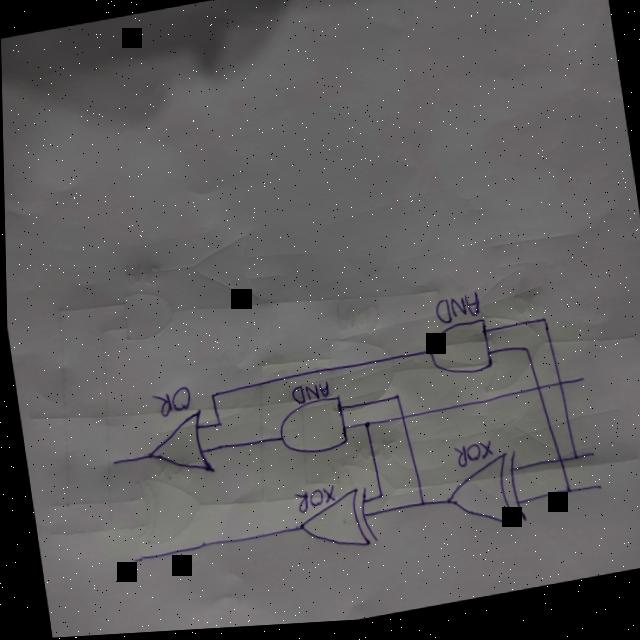crossover: (394, 417, 404, 428), (553, 384, 562, 395), (554, 463, 563, 473), (531, 390, 540, 399)
junction: (211, 418, 223, 432), (537, 320, 548, 333), (206, 392, 217, 405), (519, 349, 529, 362), (562, 490, 571, 504), (567, 459, 577, 469), (415, 503, 424, 514), (390, 396, 399, 407), (359, 423, 368, 434), (374, 495, 382, 504)
terminal: (125, 553, 143, 568), (107, 458, 116, 470), (576, 380, 585, 391), (592, 487, 601, 498), (585, 456, 594, 466)
text: (429, 293, 481, 330), (148, 387, 192, 420), (286, 382, 330, 412), (291, 487, 334, 516), (450, 444, 489, 474)
